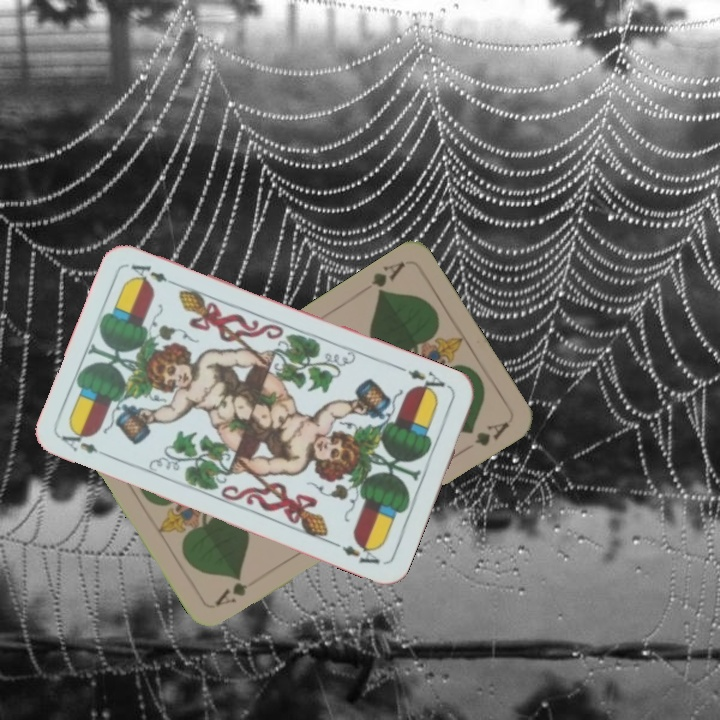EA: (57, 424, 114, 461), (396, 363, 453, 399)
GA: (211, 574, 265, 608), (367, 257, 408, 299)
